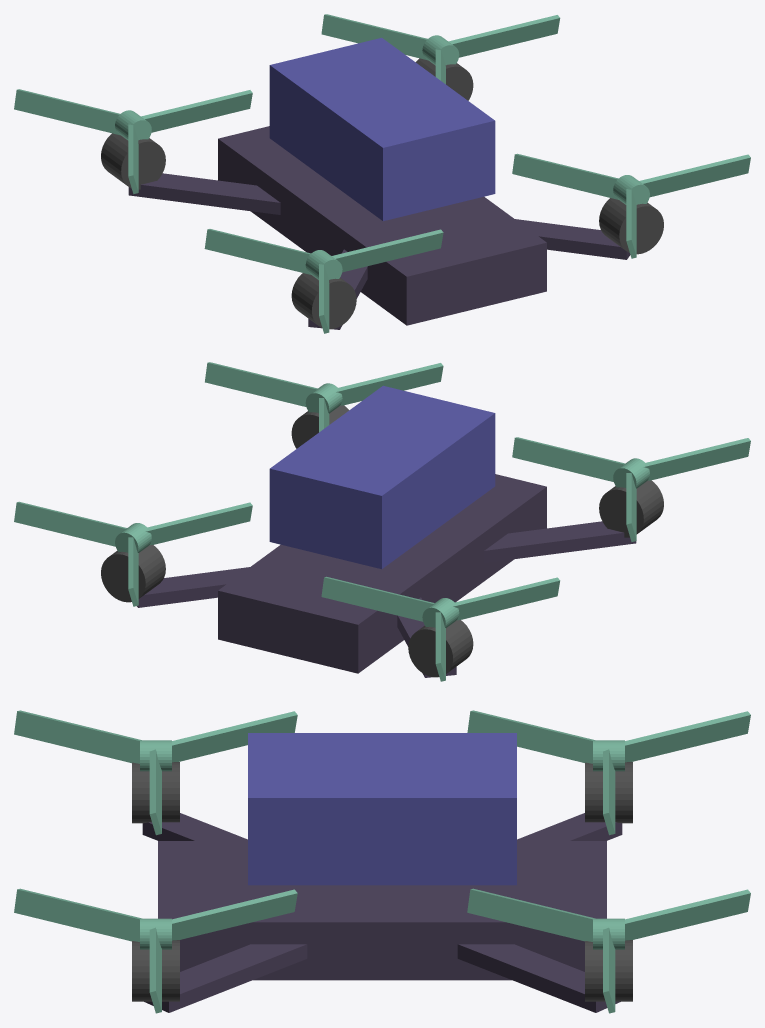
File: Cidora.glb
3 renders of one model, top to bottom at view 1: azimuth 30°, elevation 25°; view 2: azimuth 150°, elevation 25°; view 3: azimuth 270°, elevation 25°, orthographic. The views are drawn at different scales.
Visible parts, largest first — view 1: battery, frame_body, prop_3, prop_0, prop_2, prop_1, arm_3, arm_0, motor_0, motor_2, motor_3, motor_1 (+1 smaller); view 2: battery, frame_body, prop_2, prop_1, prop_3, prop_0, arm_2, motor_1, arm_1, motor_3, motor_2, motor_0 (+1 smaller); view 3: battery, frame_body, prop_1, prop_0, prop_2, prop_3, arm_1, arm_0, motor_1, motor_0, motor_3, motor_2 (+2 smaller).
Boxes of the visible parts, x1=… form: battery: x1=269, y1=37, x2=495, y2=221; frame_body: x1=218, y1=126, x2=546, y2=325; prop_3: x1=14, y1=89, x2=252, y2=194; prop_0: x1=512, y1=153, x2=750, y2=258; prop_2: x1=204, y1=229, x2=443, y2=333; prop_1: x1=321, y1=14, x2=560, y2=84; arm_3: x1=128, y1=173, x2=280, y2=214; arm_0: x1=515, y1=219, x2=630, y2=259; motor_0: x1=599, y1=198, x2=663, y2=254; motor_2: x1=291, y1=273, x2=356, y2=329; motor_3: x1=101, y1=133, x2=165, y2=189; motor_1: x1=415, y1=58, x2=473, y2=100; battery: x1=269, y1=385, x2=495, y2=569; frame_body: x1=218, y1=474, x2=546, y2=673; prop_2: x1=512, y1=437, x2=750, y2=541; prop_1: x1=14, y1=501, x2=252, y2=606; prop_3: x1=321, y1=576, x2=560, y2=681; prop_0: x1=205, y1=362, x2=443, y2=432; arm_2: x1=484, y1=521, x2=636, y2=562; motor_1: x1=101, y1=545, x2=165, y2=602; arm_1: x1=137, y1=567, x2=249, y2=607; motor_3: x1=408, y1=620, x2=473, y2=677; motor_2: x1=599, y1=480, x2=663, y2=537; motor_0: x1=291, y1=405, x2=349, y2=448; battery: x1=248, y1=733, x2=516, y2=885; frame_body: x1=158, y1=841, x2=606, y2=980; prop_1: x1=467, y1=888, x2=750, y2=1013; prop_0: x1=14, y1=888, x2=297, y2=1013; prop_2: x1=14, y1=710, x2=297, y2=835; prop_3: x1=467, y1=710, x2=750, y2=835; arm_1: x1=457, y1=944, x2=620, y2=1012; arm_0: x1=144, y1=944, x2=307, y2=1012; motor_1: x1=585, y1=940, x2=632, y2=1001; motor_0: x1=132, y1=940, x2=179, y2=1001; motor_3: x1=585, y1=762, x2=632, y2=823; motor_2: x1=132, y1=762, x2=179, y2=823.
Bounding box in the file's own units: 0.2083 × 0.06 × 0.2299.
